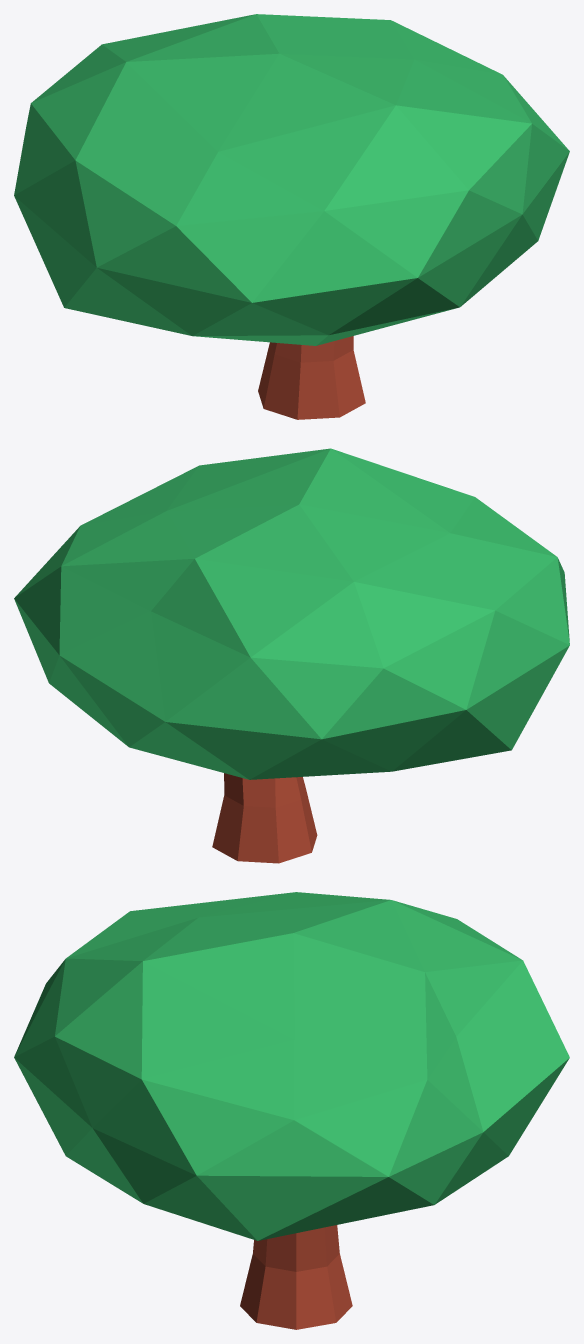
The model's file is Tree2, Short_Fat2.fbx.
The picture shows the model from 3 angles, top to bottom: view 1: azimuth 30°, elevation 25°; view 2: azimuth 150°, elevation 25°; view 3: azimuth 270°, elevation 25°; orthographic projection. The views are drawn at different scales.
Parts seen in each view (by area): view 1: Tree2; view 2: Tree2; view 3: Tree2.
Part boxes in pixels (box(x1,y1,x2,y2)): Tree2: box(14, 14, 569, 419); Tree2: box(14, 448, 569, 863); Tree2: box(14, 892, 569, 1329).
Size of the model in its own units: 448 by 317 by 449.
